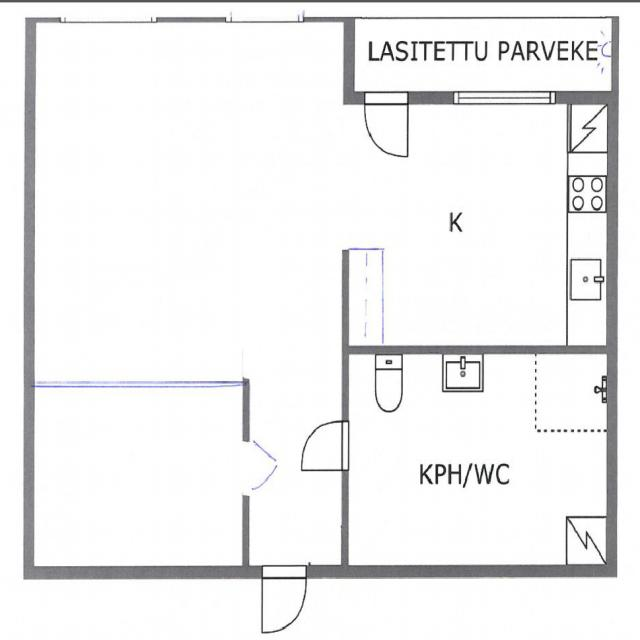door: (262, 565, 306, 631), (242, 441, 294, 496), (364, 91, 407, 157), (301, 420, 348, 470)
